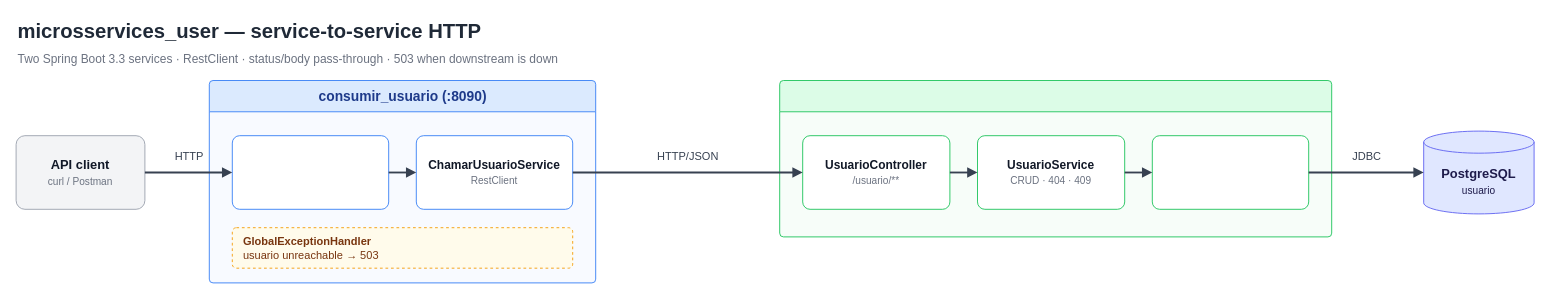
The diagram is 1550 pixels wide and 299 high, and some of its shapes have lost their labels. The box of each missing label's shape, as (x1, y1, x2, y2) in pixels:
ChamarUsuarioController /chamar/**: (231, 135, 389, 209)
usuario (:8080): (779, 80, 1332, 237)
UsuarioRepository Spring Data JPA: (1151, 135, 1309, 209)
